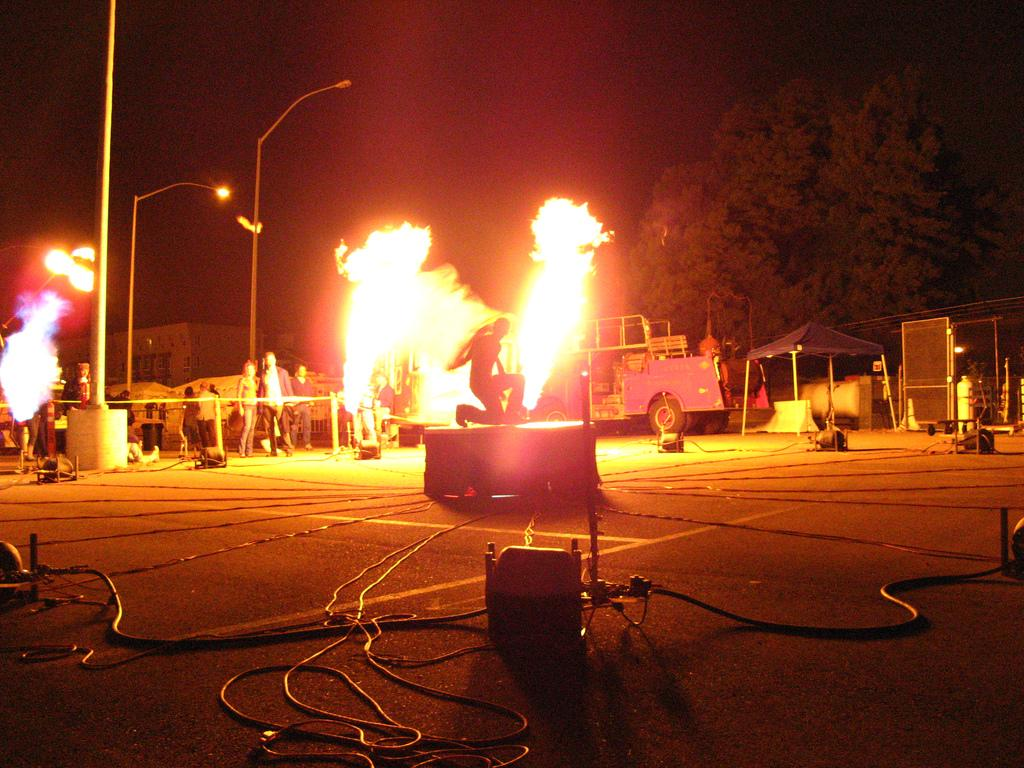fire: (352, 232, 456, 412), (532, 198, 604, 378), (4, 318, 64, 422)
